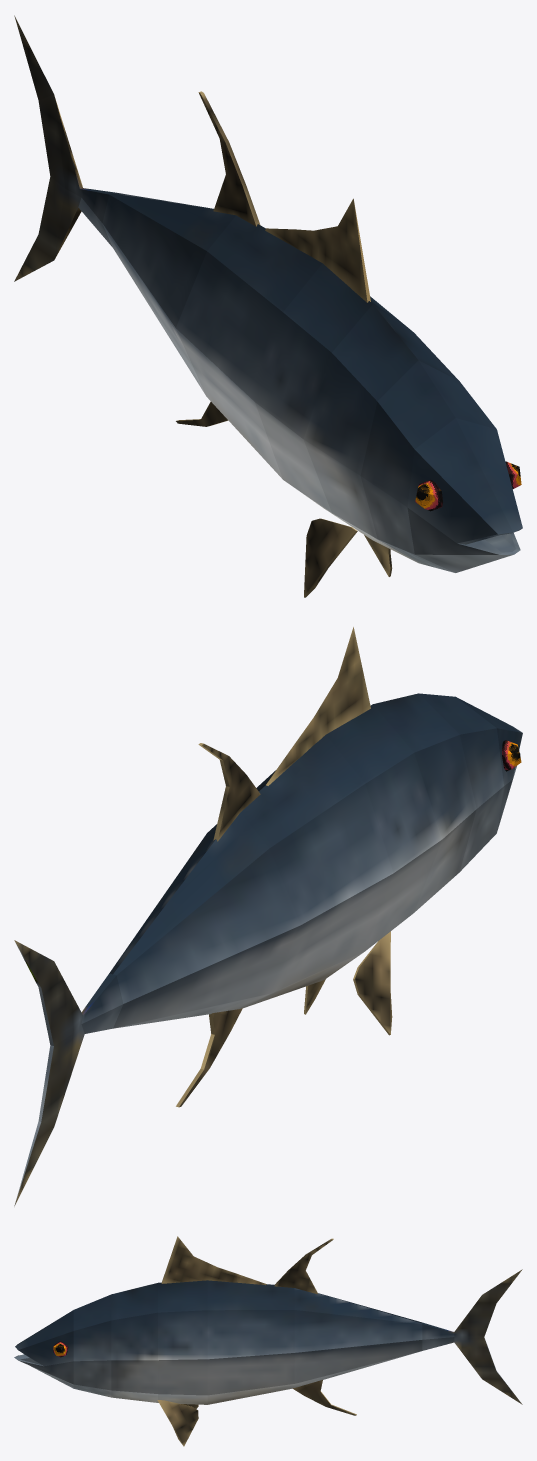
Rendered from Tuna.fbx.
3 views of the same model, one above another, from view 1: azimuth 30°, elevation 25°; view 2: azimuth 150°, elevation 25°; view 3: azimuth 270°, elevation 25° (orthographic). The views are drawn at different scales.
Visible parts, largest first — view 1: Tuna_Body, Top_Fin, Bot_Fin_Front, Top_Fin_Back, Eyes; view 2: Tuna_Body, Top_Fin, Bot_Fin_Front, Top_Fin_Back, Bot_Fin; view 3: Tuna_Body, Top_Fin, Bot_Fin_Front, Top_Fin_Back, Bot_Fin.
Boxes of the visible parts, x1,y1,x2,y2 form: Tuna_Body: (14, 15, 522, 572); Top_Fin: (265, 198, 370, 302); Bot_Fin_Front: (304, 518, 392, 597); Top_Fin_Back: (198, 91, 260, 226); Eyes: (415, 461, 521, 511); Tuna_Body: (14, 693, 522, 1206); Top_Fin: (266, 627, 370, 785); Bot_Fin_Front: (304, 931, 392, 1035); Top_Fin_Back: (198, 743, 260, 841); Bot_Fin: (176, 1008, 242, 1107); Tuna_Body: (14, 1269, 522, 1404); Top_Fin: (161, 1236, 266, 1285); Bot_Fin_Front: (157, 1400, 198, 1446); Top_Fin_Back: (274, 1238, 333, 1294); Bot_Fin: (292, 1380, 356, 1415).
Bounding box in the file's own units: 0.7454 × 2.02 × 4.65.
2 materials, 2 textured.
